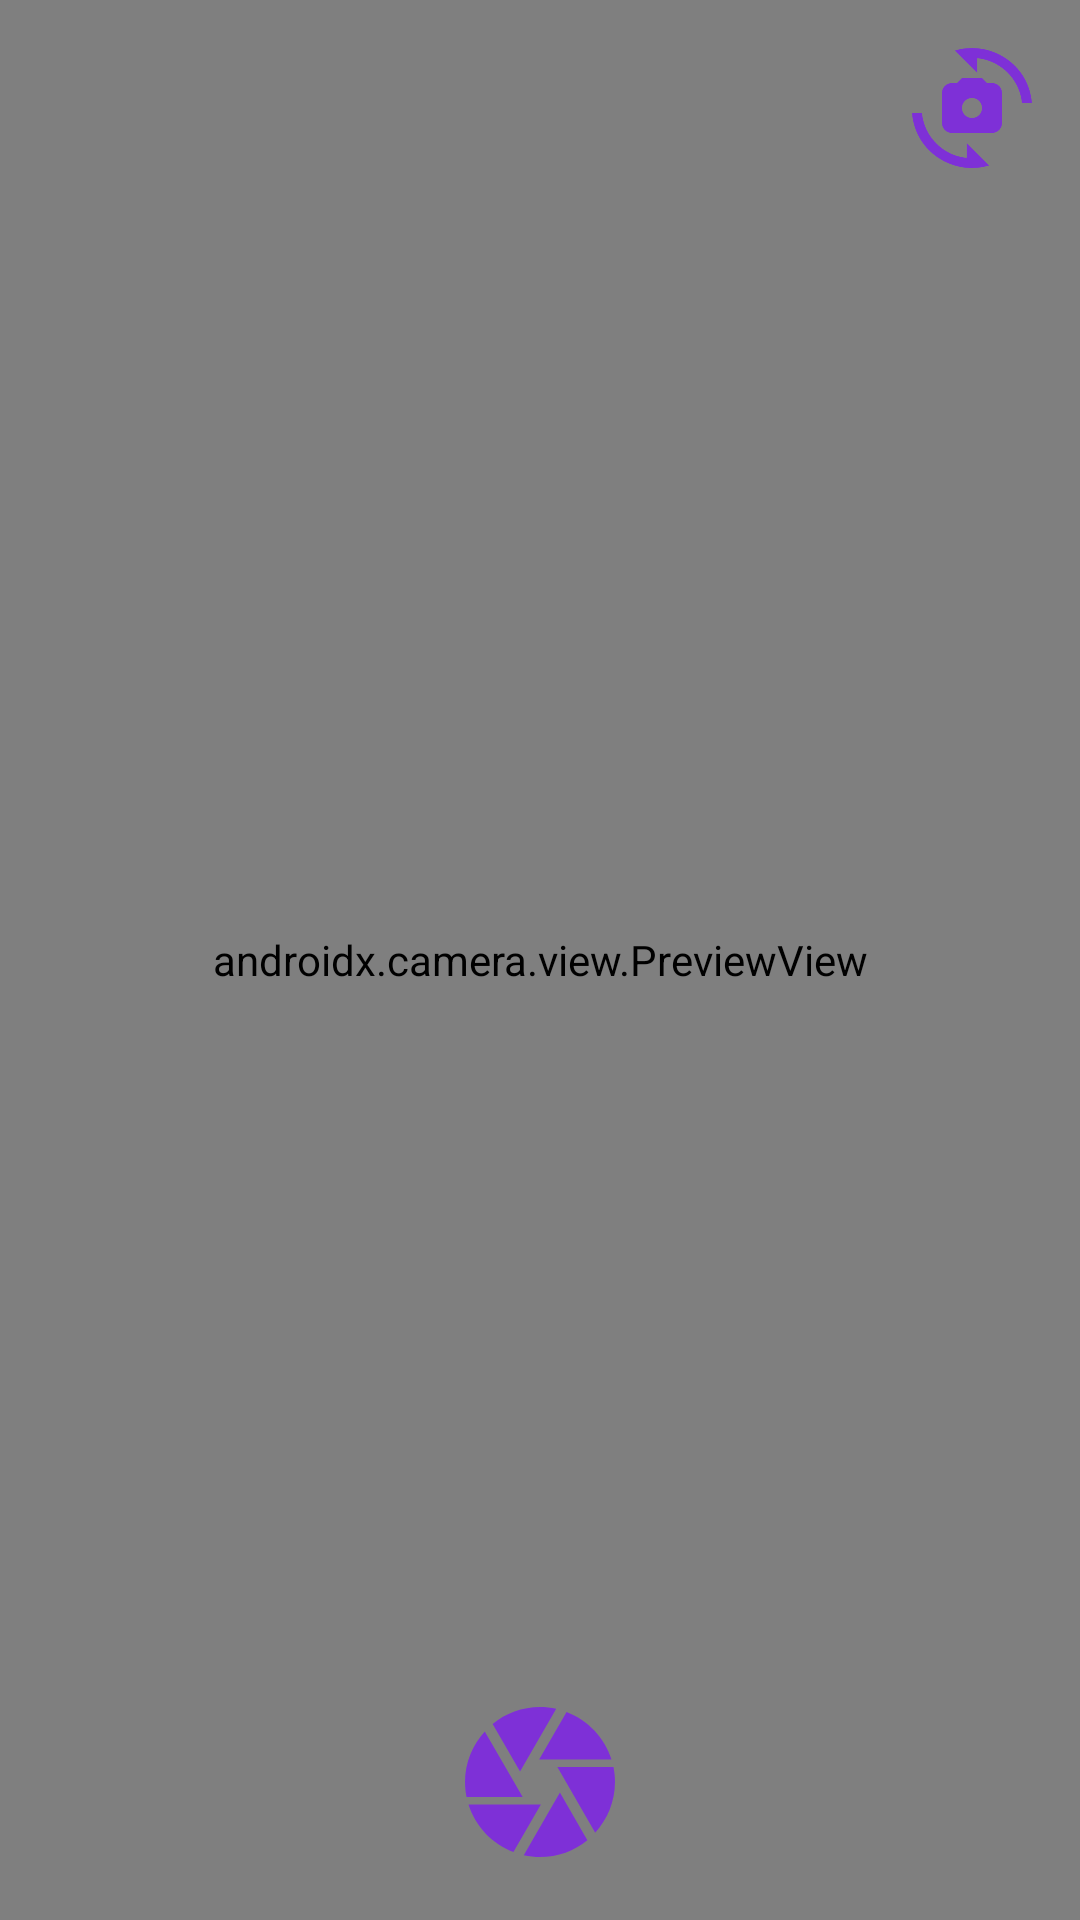

Point at icon controls on the screen. Image size 1080 × 1920, points as point (x, y).
capture: point (540, 1782)
switch camera: point (972, 108)
